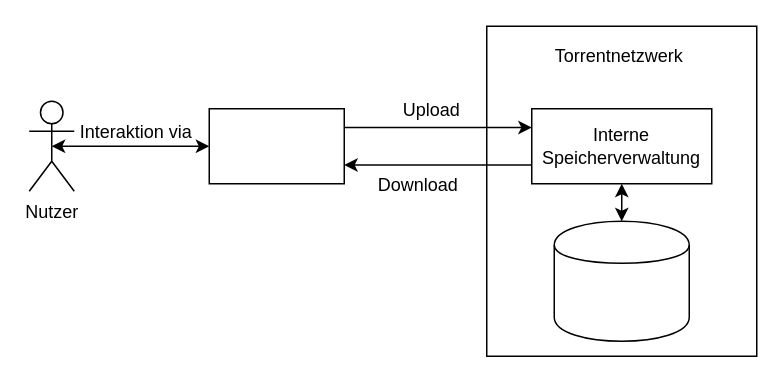
Some shapes in this 783 by 383 pixel diagram are drawn without their labels. The centre of each missing label's shape, as x and y in pixels:
Client-Interface: the point at 276,145
Datenhaltung: the point at 621,280
